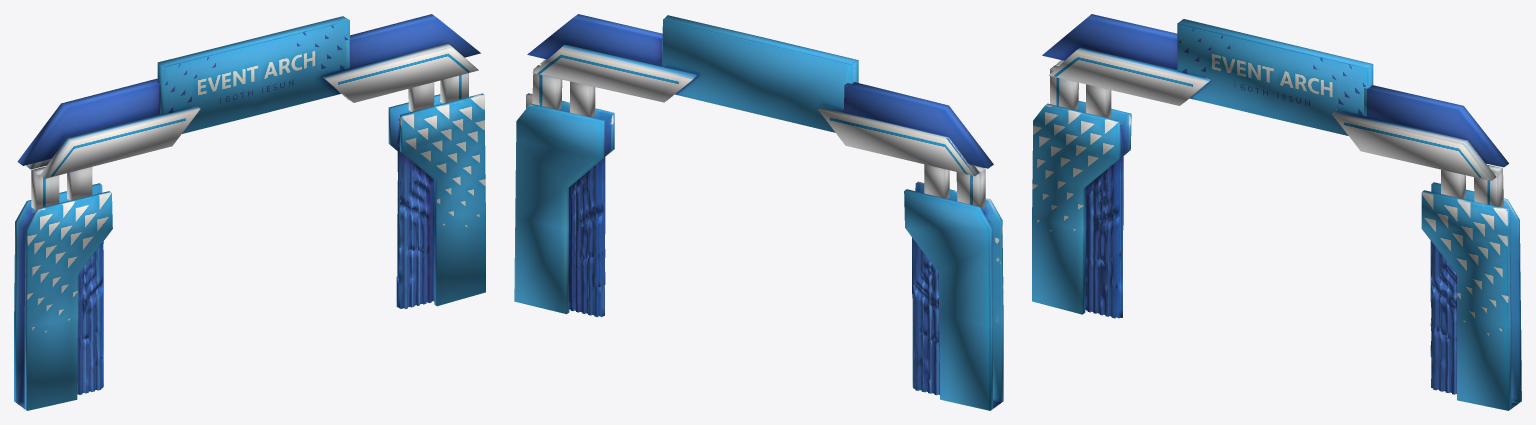
Rendered from endarch.glb.
3 views of the same model, side by side, from view 1: azimuth 30°, elevation 25°; view 2: azimuth 150°, elevation 25°; view 3: azimuth 330°, elevation 25° (orthographic).
Visible parts, largest first — view 1: tripo_node_5fd47843-2f8d-478f-98d1-7620440067e8; view 2: tripo_node_5fd47843-2f8d-478f-98d1-7620440067e8; view 3: tripo_node_5fd47843-2f8d-478f-98d1-7620440067e8.
Part boxes in pixels (x1,y1,x2,y2): tripo_node_5fd47843-2f8d-478f-98d1-7620440067e8: (14,14,485,410); tripo_node_5fd47843-2f8d-478f-98d1-7620440067e8: (514,14,1003,410); tripo_node_5fd47843-2f8d-478f-98d1-7620440067e8: (1032,14,1521,410).
Size of the model in its own units: 2.53 by 1.6 by 0.2031.
1 material, 1 textured.
